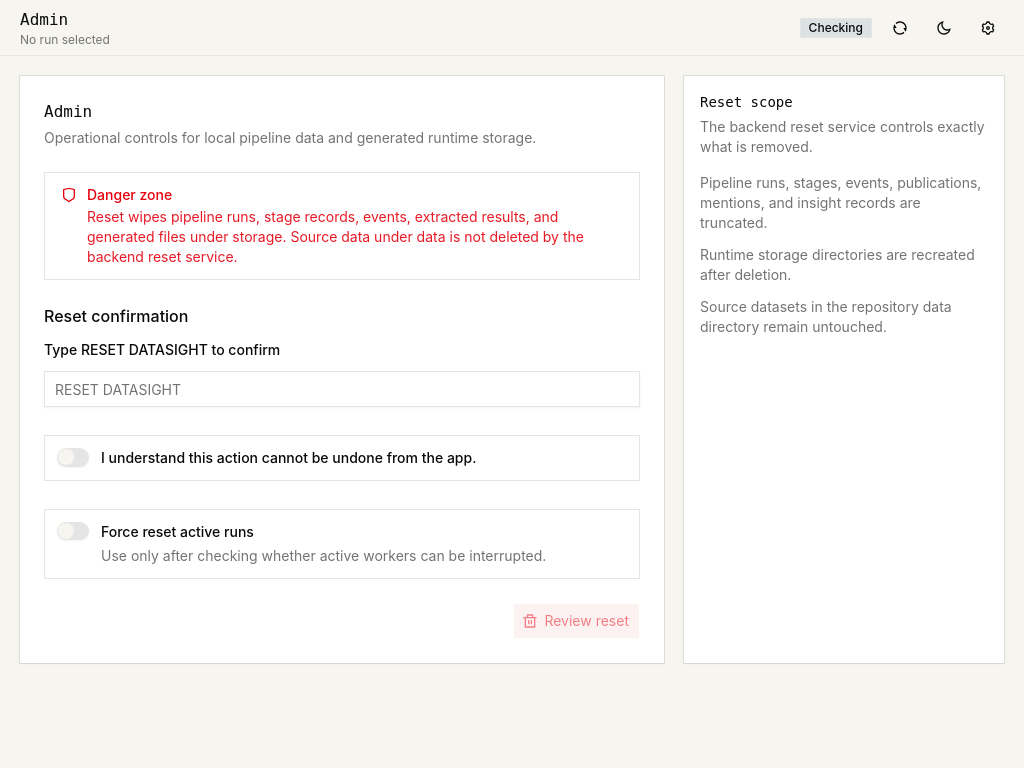
Test: App reset dialog › keeps reset disabled until exact confirmation and acknowledgement are provided
Expected: the button "Review reset" is disabled, top-left (513, 603), bottom-right (640, 639)
Type "RESET" into the field with placeholder "RESET DATASIGHT" at (342, 389), box top-left (44, 371), bottom-right (640, 407)
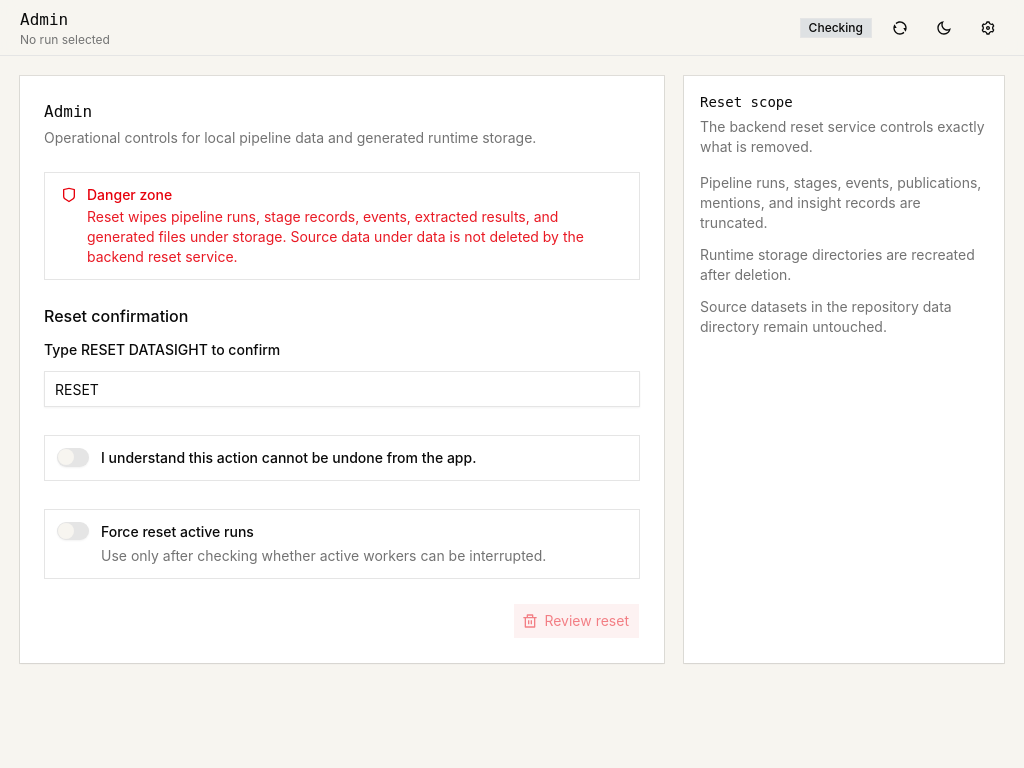
Expected: the button "Review reset" is disabled, top-left (513, 603), bottom-right (640, 639)
Replace the text in the field with placeholder "RESET DATASIGHT" with "RESET DATASIGHT" at (342, 389), box top-left (44, 371), bottom-right (640, 407)
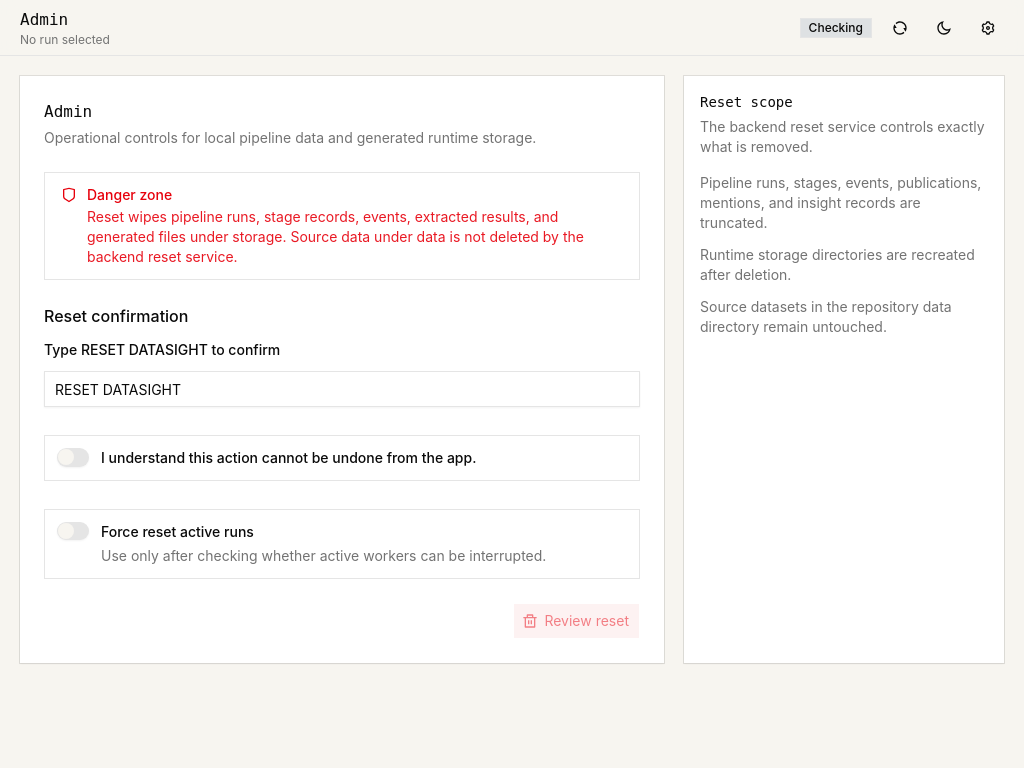
Click the 1st switch named "I understand this action cannot be undone from the app." at (73, 458), box top-left (57, 448), bottom-right (89, 467)
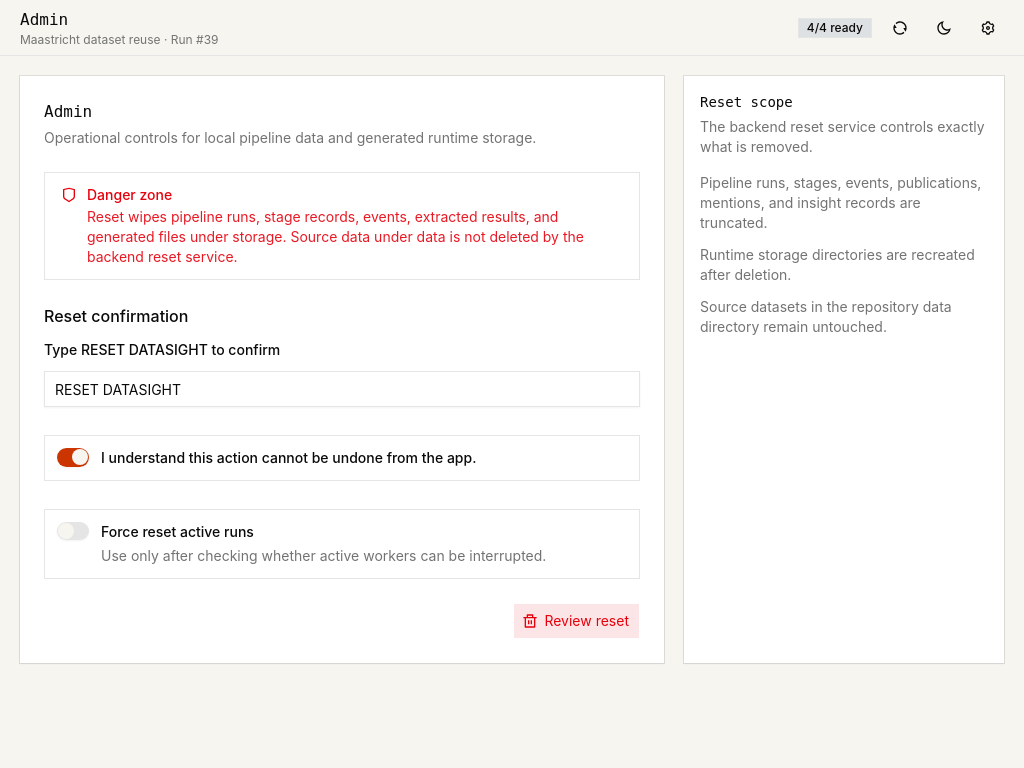
Now the button "Review reset" is enabled, box top-left (513, 603), bottom-right (640, 639)
